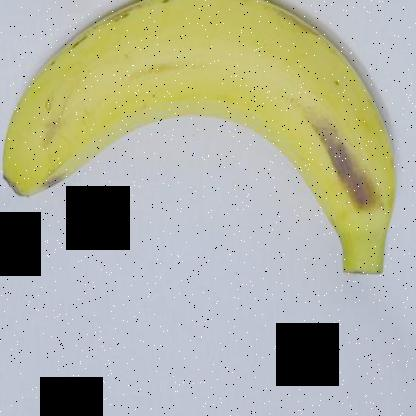freshripe: (0, 1, 413, 289)
